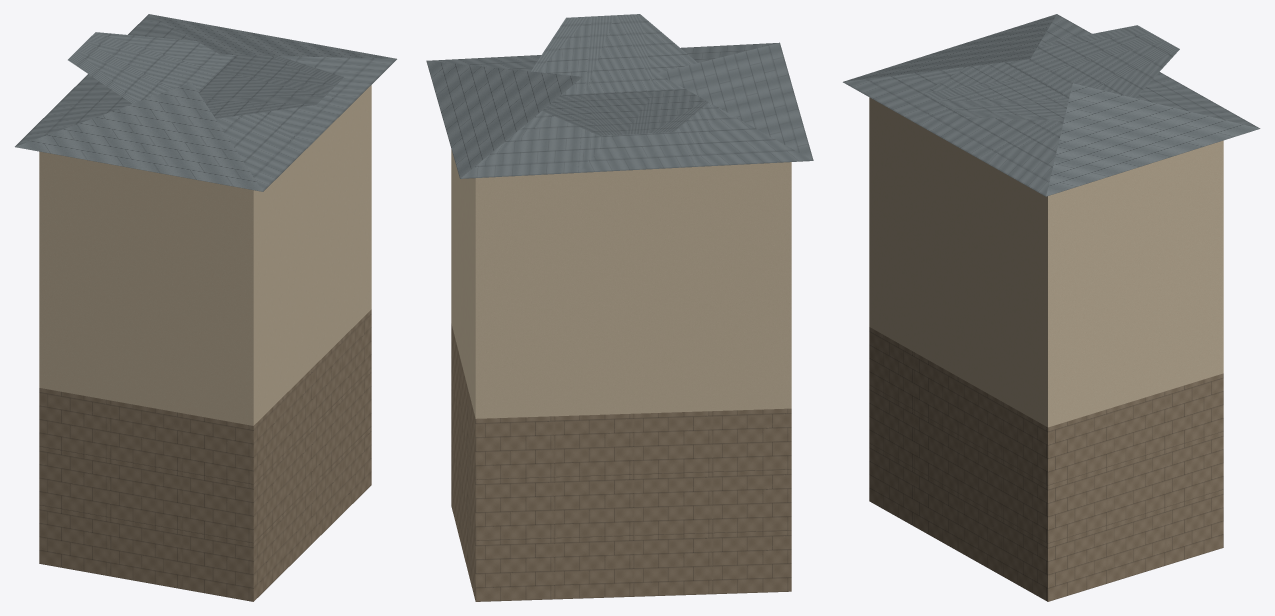
Rendered from bld_c9_18_430.gltf.
The picture shows the model from 3 angles, left to right: view 1: azimuth 30°, elevation 25°; view 2: azimuth 150°, elevation 25°; view 3: azimuth 270°, elevation 25°; orthographic projection. The views are drawn at different scales.
Visible parts, largest first — view 1: bld_c9_18_430; view 2: bld_c9_18_430; view 3: bld_c9_18_430.
Part boxes in pixels (<box>): bld_c9_18_430: <box>15,14,396,601</box>; bld_c9_18_430: <box>426,14,813,601</box>; bld_c9_18_430: <box>843,14,1260,601</box>.
Size of the model in its own units: 11.46 by 13.2 by 11.08.
3 materials, 3 textured.
